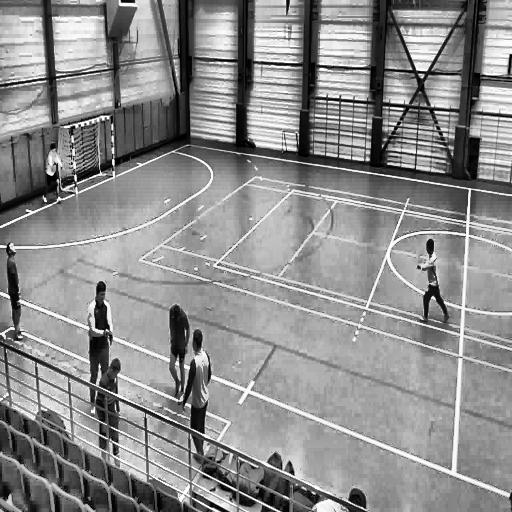ball: (54, 156, 60, 168)
